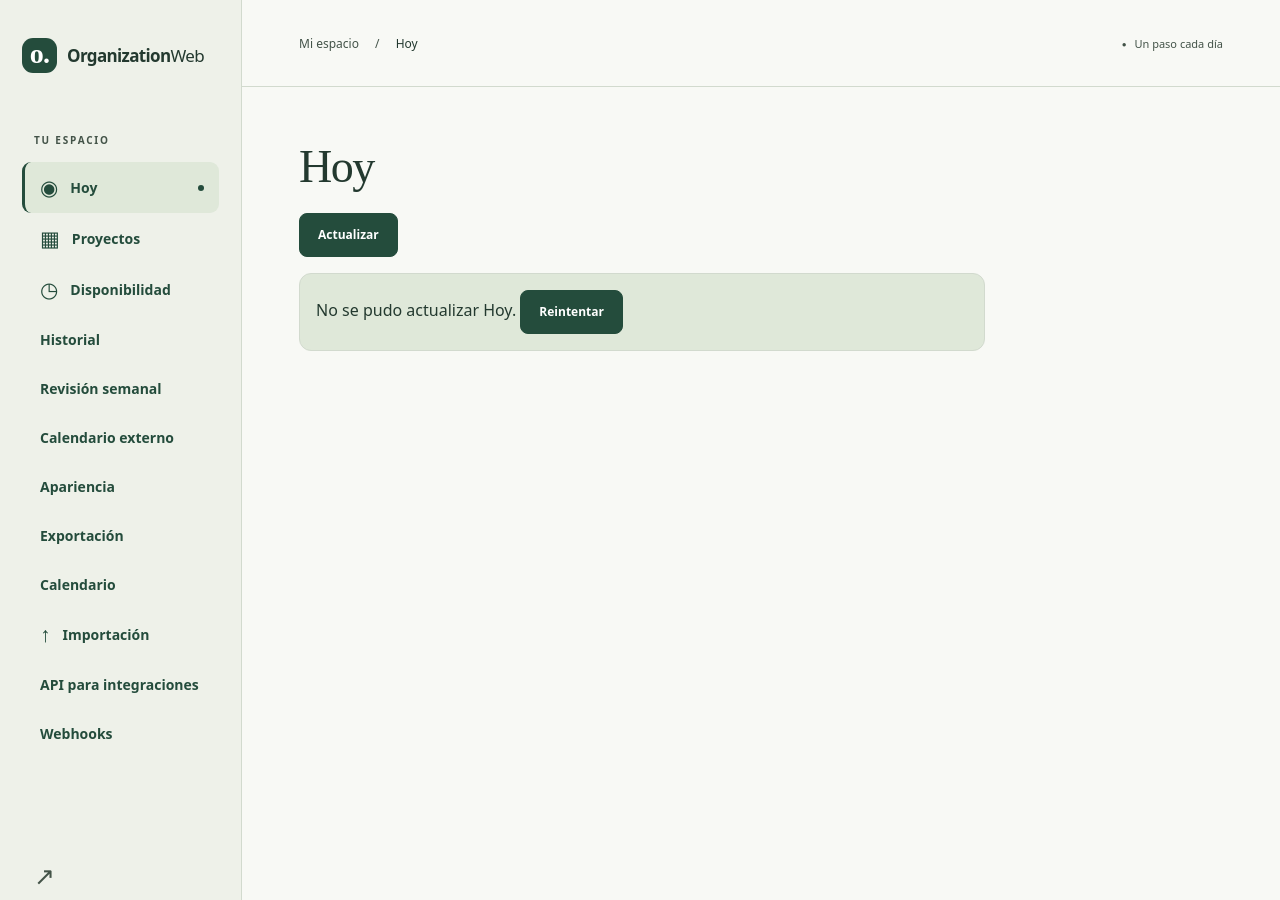
it: @s37 se llega a /calendario-externo desde el enlace de navegación
Click the link "Calendario externo": (107, 438) [40,428,174,447]
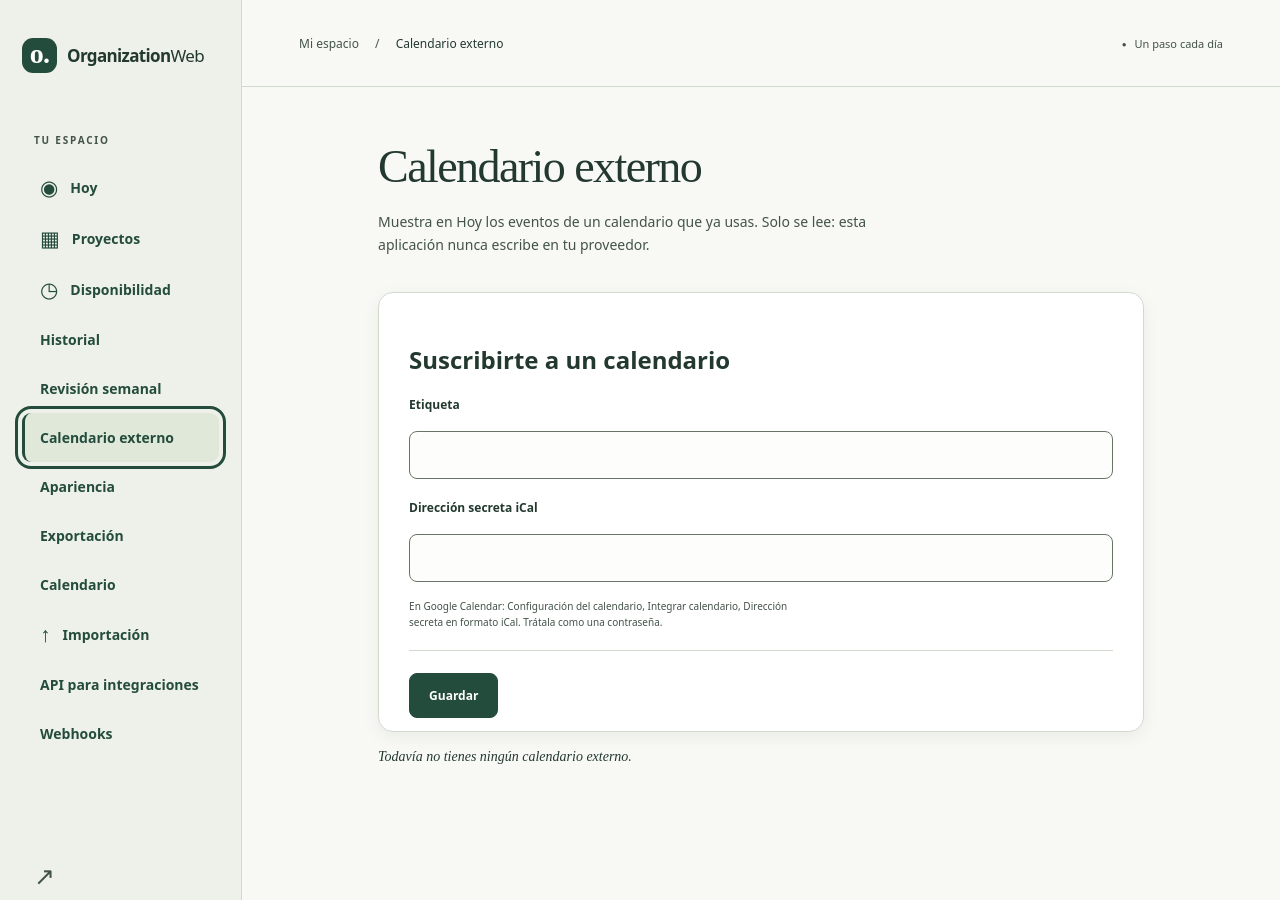
Expected: the heading "Calendario externo" is shown, [378,141,701,192]
